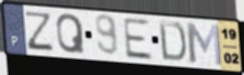9: (94, 13, 120, 60)
D: (157, 19, 188, 64)
E: (121, 16, 155, 61)
M: (184, 21, 224, 68)
Q: (56, 12, 87, 55)
Z: (25, 10, 55, 53)
